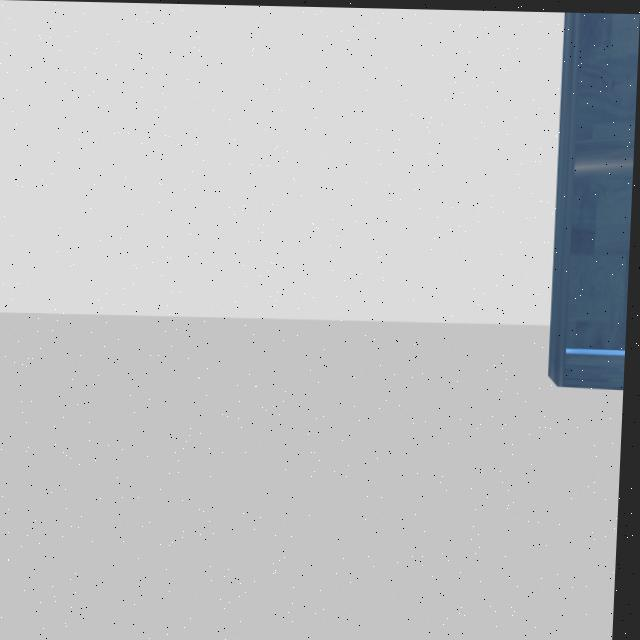shelf: (541, 10, 640, 407)
